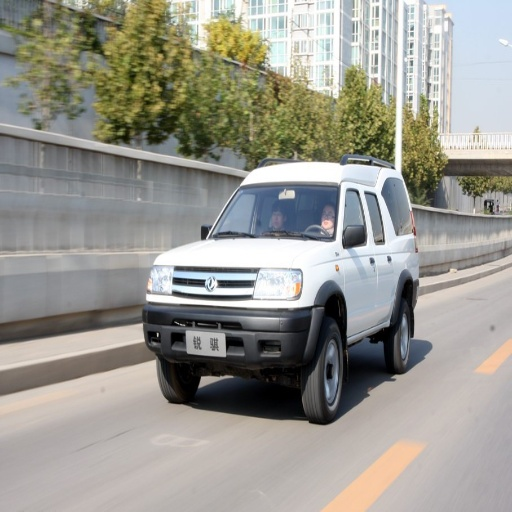front_bumper: (143, 266, 323, 368)
front_glass: (209, 183, 339, 241)
front_left_door: (341, 184, 376, 334)
